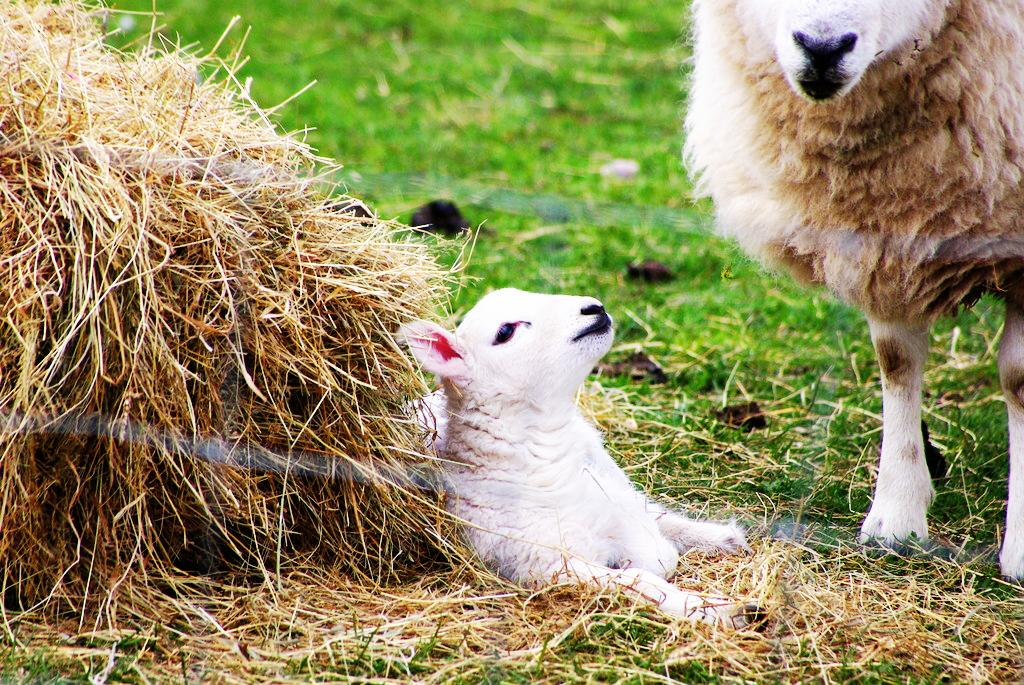Sheep: (681, 0, 1023, 587), (388, 287, 766, 642)
